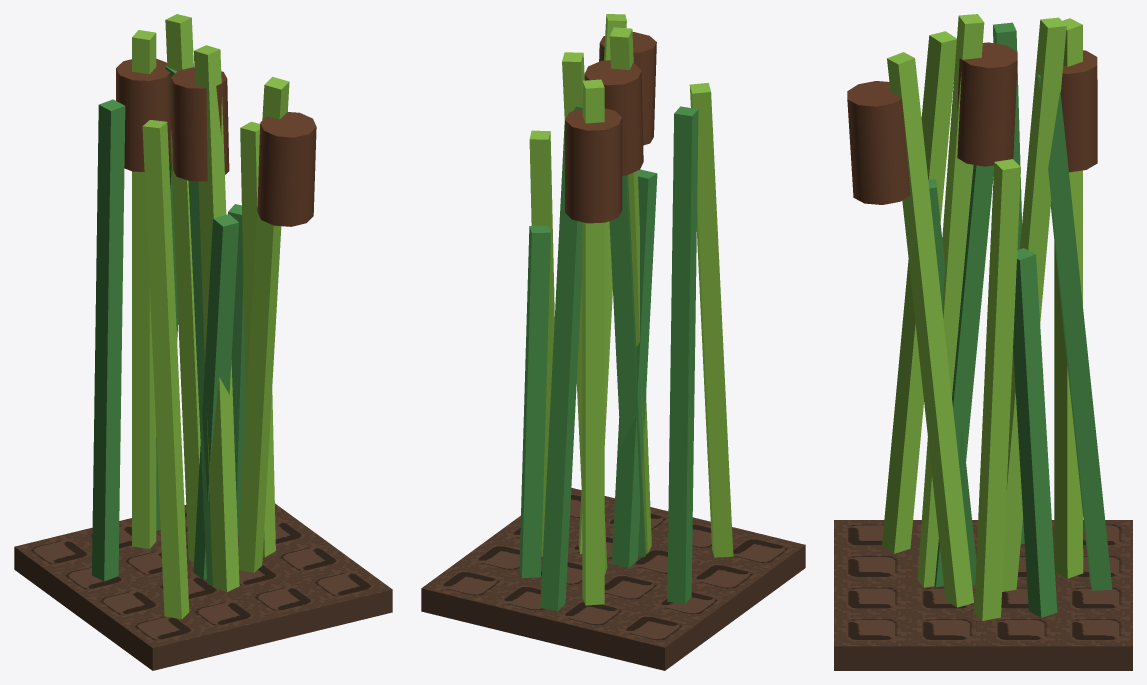
The model's file is Reeds.glb.
3 views of the same model, side by side, from view 1: azimuth 30°, elevation 25°; view 2: azimuth 150°, elevation 25°; view 3: azimuth 270°, elevation 25° (orthographic). The views are drawn at different scales.
Parts seen in each view (by area): view 1: Reeds; view 2: Reeds; view 3: Reeds.
Boxes of the visible parts, x1=… form: Reeds: x1=14, y1=14, x2=392, y2=670; Reeds: x1=421, y1=14, x2=805, y2=670; Reeds: x1=834, y1=14, x2=1132, y2=670.
Bounding box in the file's own units: 4.4 × 9.6 × 4.4.
Materials: 1 (1 with a texture image).
